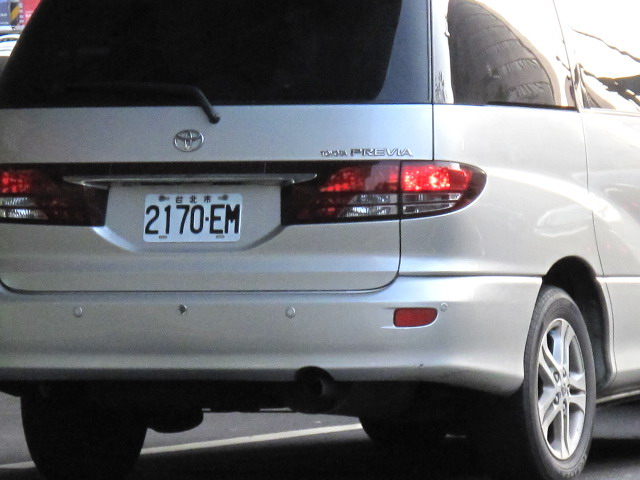plate: (140, 190, 245, 243)
